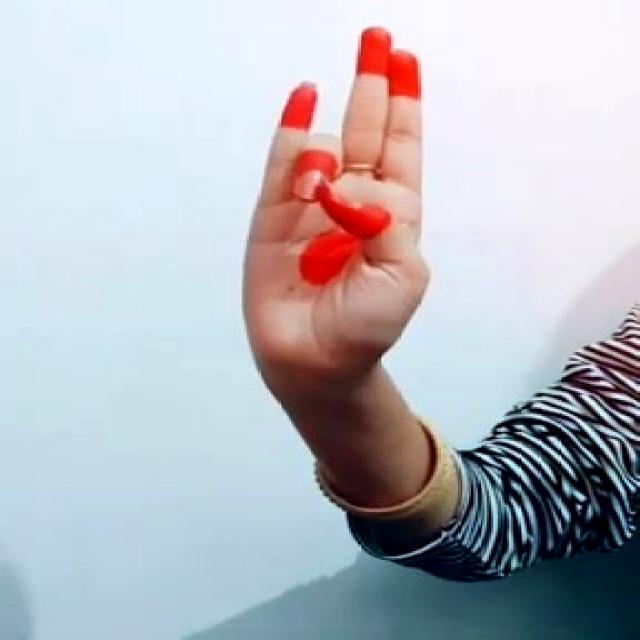Mayura: (221, 26, 475, 388)
bangle: (300, 421, 466, 521)
